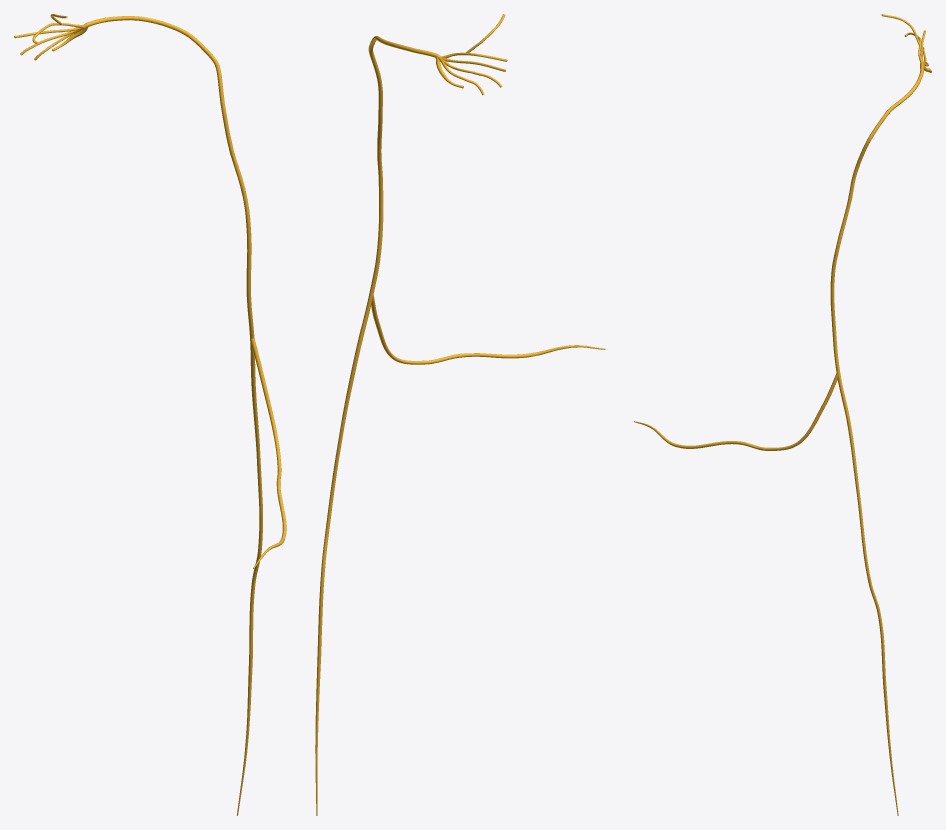
File: nervoso-glossopharyngeal-nerve-ix-l.glb
The picture shows the model from 3 angles, left to right: view 1: azimuth 30°, elevation 25°; view 2: azimuth 150°, elevation 25°; view 3: azimuth 270°, elevation 25°; orthographic projection. The views are drawn at different scales.
Visible parts, largest first — view 1: Glossopharyngeal nerve (IX).l; view 2: Glossopharyngeal nerve (IX).l; view 3: Glossopharyngeal nerve (IX).l.
Part boxes in pixels (<box>): Glossopharyngeal nerve (IX).l: <box>14,14,286,815</box>; Glossopharyngeal nerve (IX).l: <box>315,14,605,815</box>; Glossopharyngeal nerve (IX).l: <box>634,14,931,815</box>.
Bounding box in the file's own units: 0.039 × 0.1476 × 0.0548.
